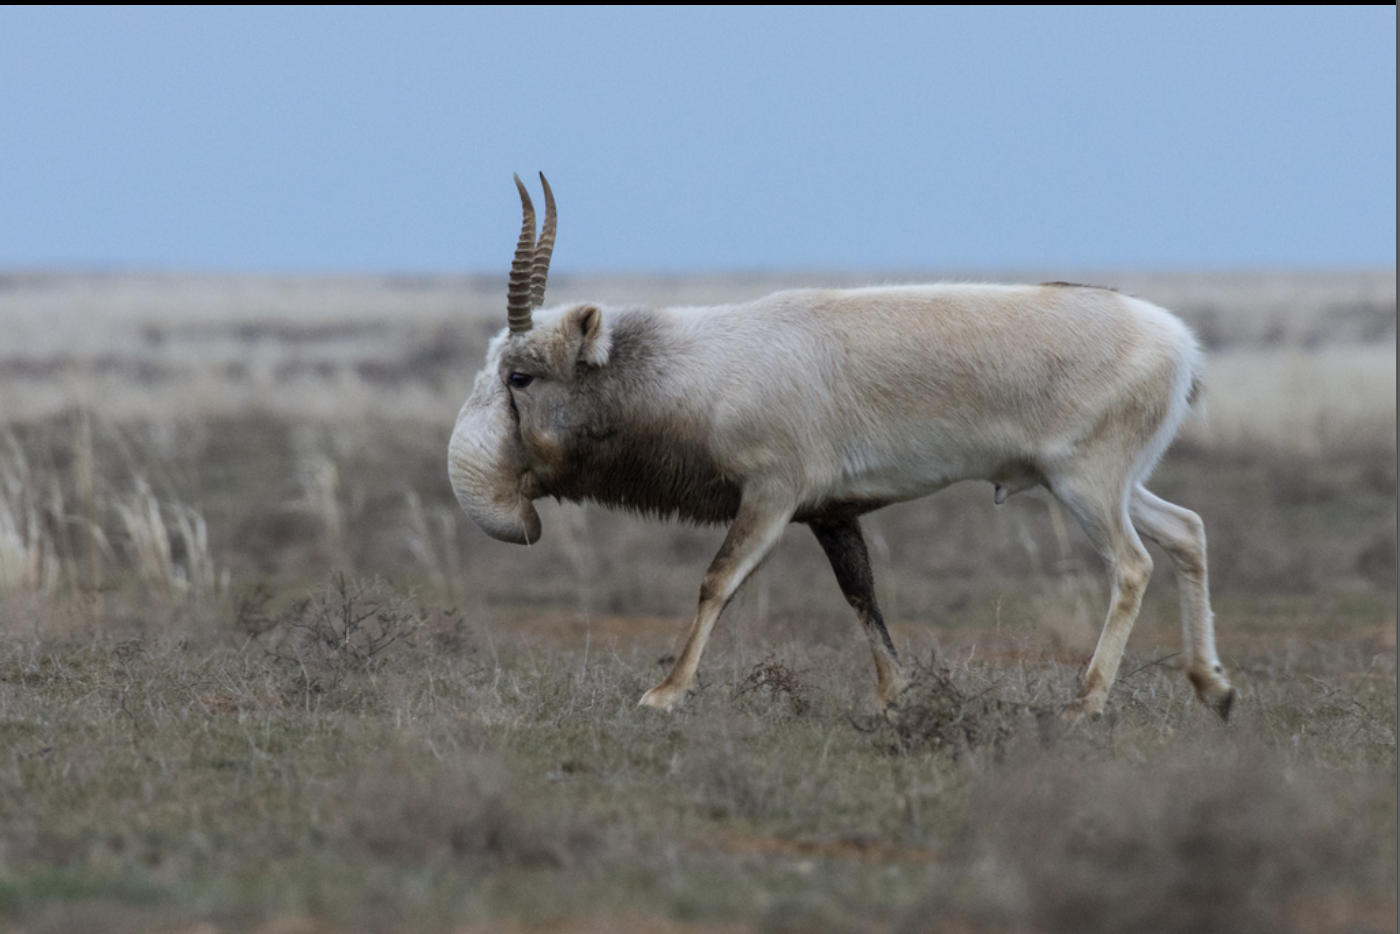saiga: (438, 164, 1251, 741)
